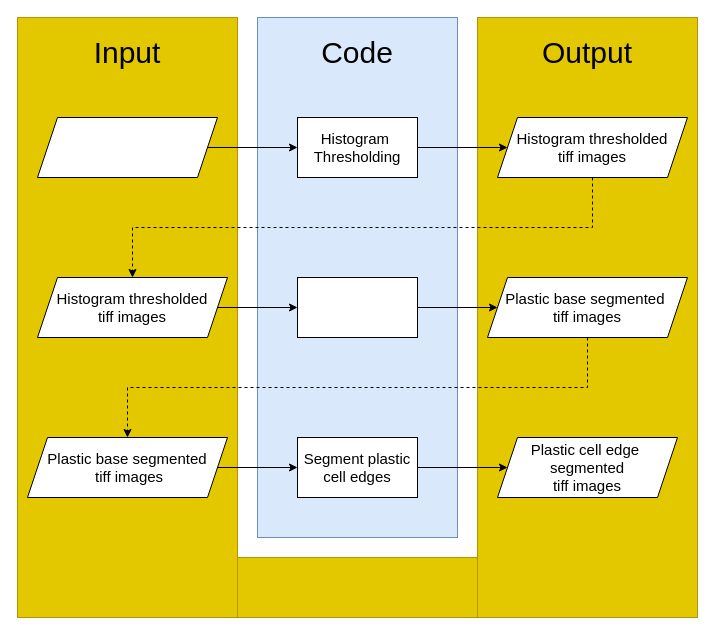
Image size: 715x635. Some labels were removed from this diagram. Each missing label, with the centre of its shape:
Data: point 357,587
Raw X-ray tiff images: point 127,147
Segment plastic base: point 357,307
